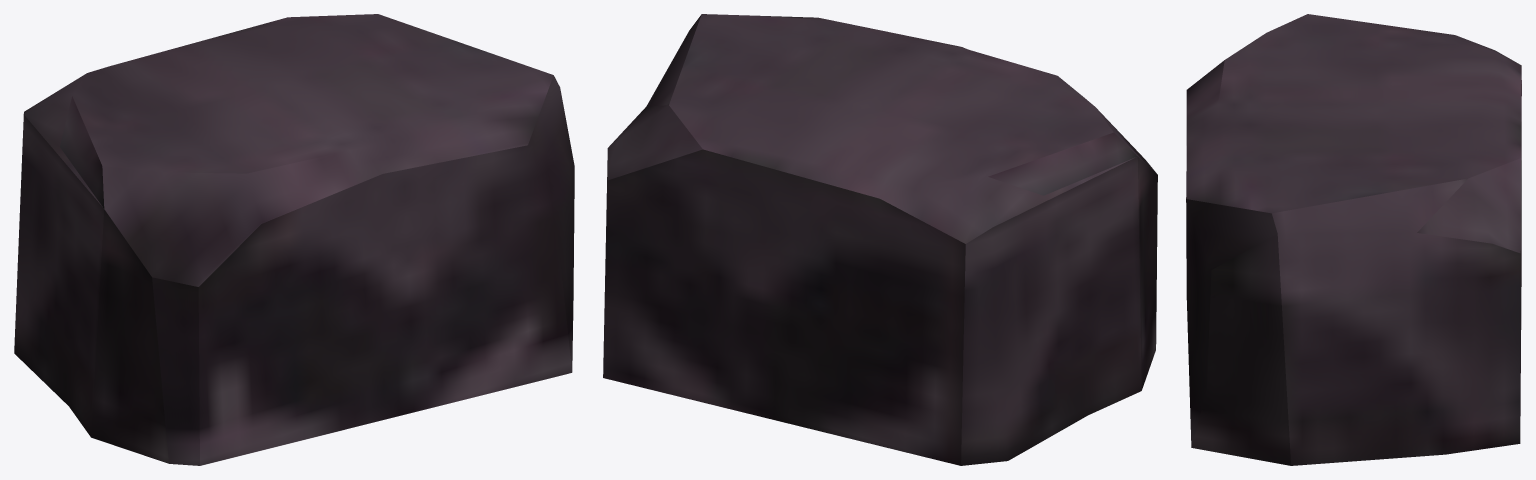
File: env_ruin_rubble_b-D5X9r7M8.glb
3 renders of one model, left to right at view 1: azimuth 30°, elevation 25°; view 2: azimuth 150°, elevation 25°; view 3: azimuth 270°, elevation 25°, orthographic. The views are drawn at different scales.
Visible parts, largest first — view 1: env_ruin_rubble_b_hy_v1; view 2: env_ruin_rubble_b_hy_v1; view 3: env_ruin_rubble_b_hy_v1.
Boxes of the visible parts, x1,y1,x2,y2 form: env_ruin_rubble_b_hy_v1: (14,14,574,465); env_ruin_rubble_b_hy_v1: (603,14,1157,465); env_ruin_rubble_b_hy_v1: (1186,14,1521,465).
Bounding box in the file's own units: 0.504 × 0.2708 × 0.3325.
Materials: 1 (1 with a texture image).
